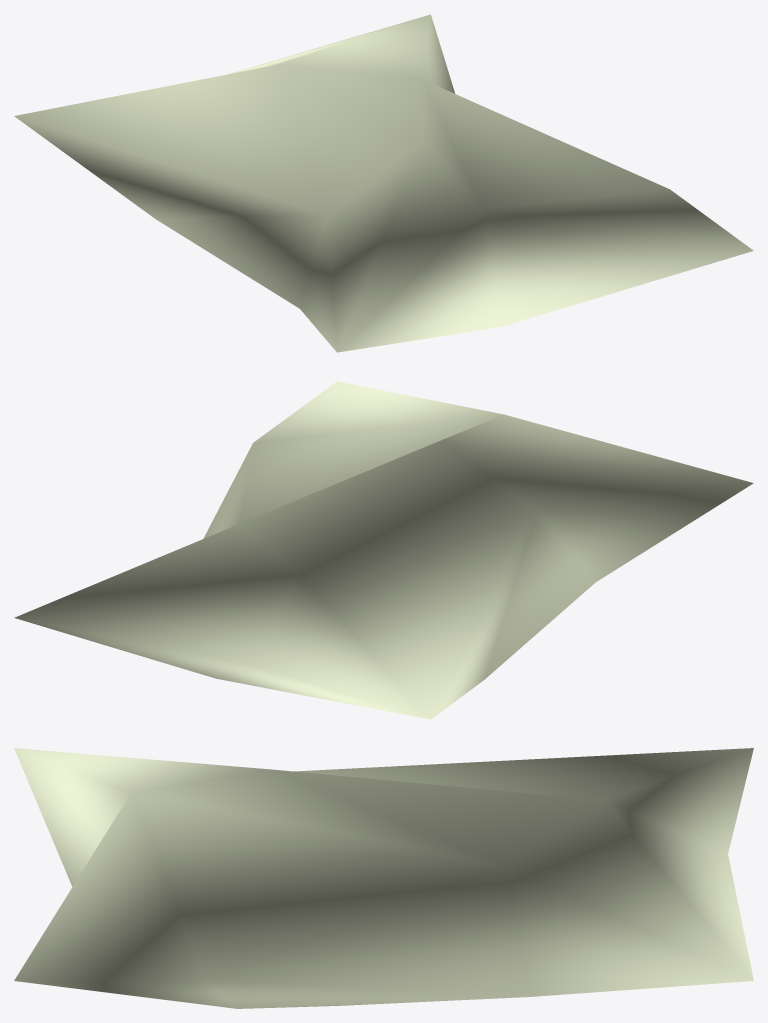
File: hotl_pillow_1.FBX
3 views of the same model, one above another, from view 1: azimuth 30°, elevation 25°; view 2: azimuth 150°, elevation 25°; view 3: azimuth 270°, elevation 25° (orthographic). The views are drawn at different scales.
Visible parts, largest first — view 1: pillow_1; view 2: pillow_1; view 3: pillow_1.
Part boxes in pixels (x1,y1,x2,y2): pillow_1: (14, 14, 753, 352); pillow_1: (14, 381, 753, 719); pillow_1: (14, 748, 753, 1008).
Size of the model in its own units: 0.827 by 0.339 by 1.11.
